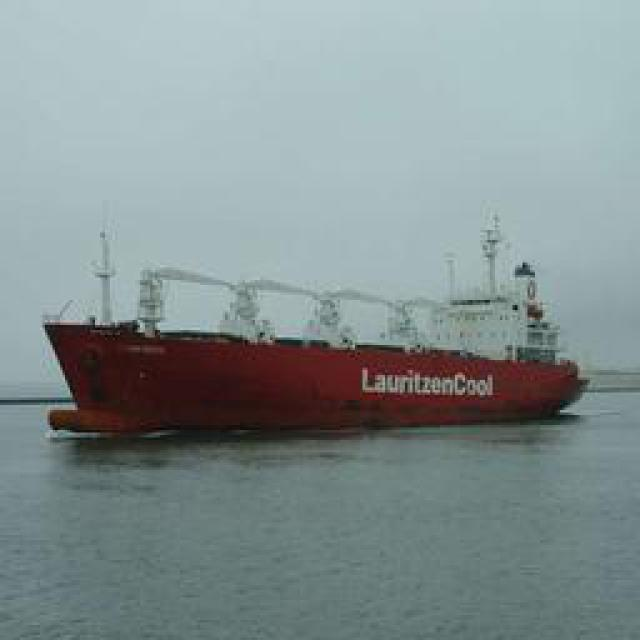Ship: (41, 214, 594, 440)
